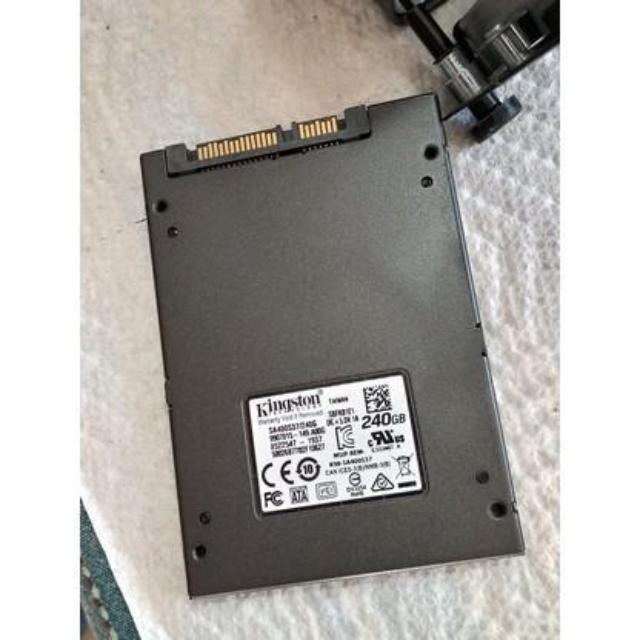DISK: (129, 83, 531, 600)
